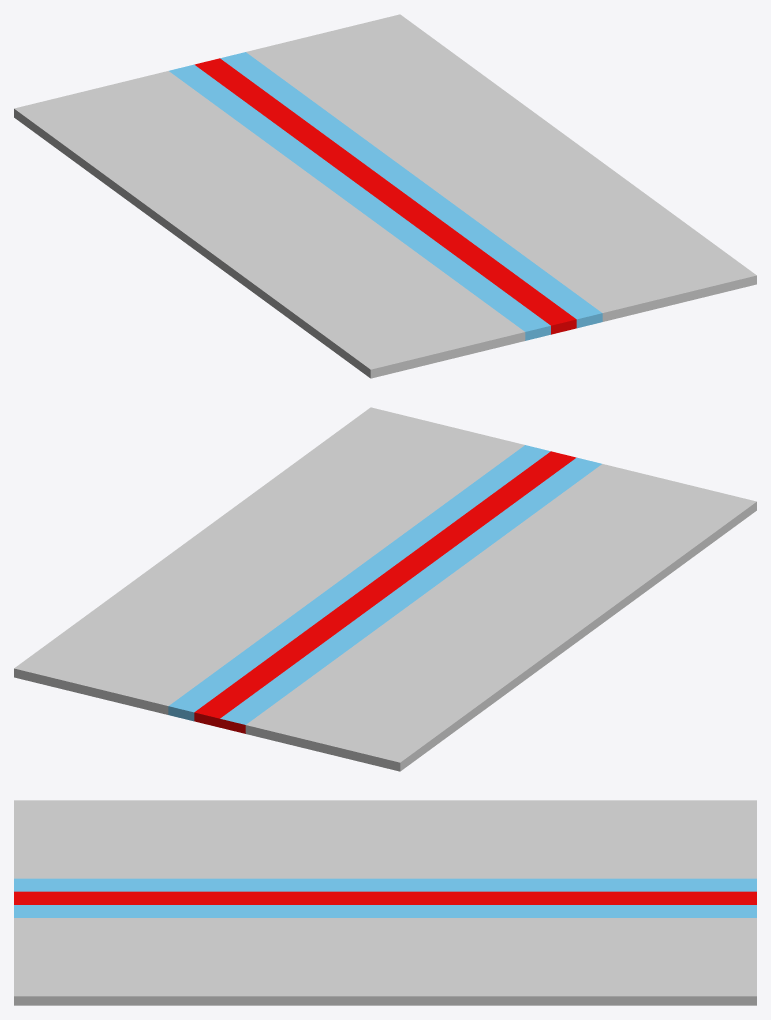
The model's file is ER_LevelSegment_V3.fbx.
The picture shows the model from 3 angles, top to bottom: view 1: azimuth 30°, elevation 25°; view 2: azimuth 150°, elevation 25°; view 3: azimuth 270°, elevation 25°; orthographic projection. The views are drawn at different scales.
Visible parts, largest first — view 1: Row 34-36_26, Row 34-36_21, Row 34-36_20, Row 34-36_27, Row 34-36_16, Row 34-36_24, Row 34-36_29, Row 34-36_22, Row 34-36_19, Row 34-36_15, Row 34-36_18, Row 34-36_23 (+3 smaller); view 2: Row 1-3_11, Row 1-3_5, Row 1-3_2, Row 1-3_13, Row 1-3_7, Row 1-3_10, Row 1-3_14, Row 1-3_4, Row 1-3_3, Row 1-3, Row 1-3_1, Row 1-3_6 (+3 smaller); view 3: Row 31-33_12, Row 28-30_12, Row 25-27_12, Row 22-24_12, Row 19-21_12, Row 16-18_12, Row 13-15_12, Row 34-36_13, Row 22-24_27, Row 19-21_27, Row 16-18_27, Row 13-15_27 (+348 smaller).
Boxes of the visible parts, x1,y1,x2,y2 form: Row 34-36_26: [356, 352, 396, 378]; Row 34-36_21: [459, 327, 499, 353]; Row 34-36_20: [588, 296, 628, 321]; Row 34-36_27: [691, 271, 731, 296]; Row 34-36_16: [562, 302, 602, 328]; Row 34-36_24: [382, 346, 422, 372]; Row 34-36_29: [665, 277, 705, 302]; Row 34-36_22: [485, 321, 525, 346]; Row 34-36_19: [639, 283, 679, 309]; Row 34-36_15: [536, 308, 576, 334]; Row 34-36_18: [614, 290, 653, 315]; Row 34-36_23: [433, 333, 473, 359]; Row 1-3_11: [374, 745, 414, 771]; Row 1-3_5: [271, 720, 311, 746]; Row 1-3_2: [142, 689, 182, 714]; Row 1-3_13: [39, 664, 79, 689]; Row 1-3_7: [168, 695, 208, 721]; Row 1-3_10: [348, 739, 388, 765]; Row 1-3_14: [65, 670, 105, 695]; Row 1-3_4: [245, 714, 285, 739]; Row 1-3_3: [91, 676, 131, 702]; Row 1-3: [194, 701, 234, 727]; Row 1-3_1: [117, 683, 156, 708]; Row 1-3_6: [297, 726, 337, 752]; Row 31-33_12: [416, 983, 447, 1005]; Row 28-30_12: [447, 983, 478, 1005]; Row 25-27_12: [478, 983, 509, 1005]; Row 22-24_12: [509, 983, 540, 1005]; Row 19-21_12: [540, 983, 571, 1005]; Row 16-18_12: [571, 983, 602, 1005]; Row 13-15_12: [602, 983, 633, 1005]; Row 34-36_13: [385, 983, 416, 1005]; Row 22-24_27: [137, 983, 168, 1005]; Row 19-21_27: [168, 983, 199, 1005]; Row 16-18_27: [199, 983, 230, 1005]; Row 13-15_27: [230, 983, 261, 1005].
Bounding box in the file's own units: 4500 × 100 × 7200.
Materials: 2 (2 with a texture image).
